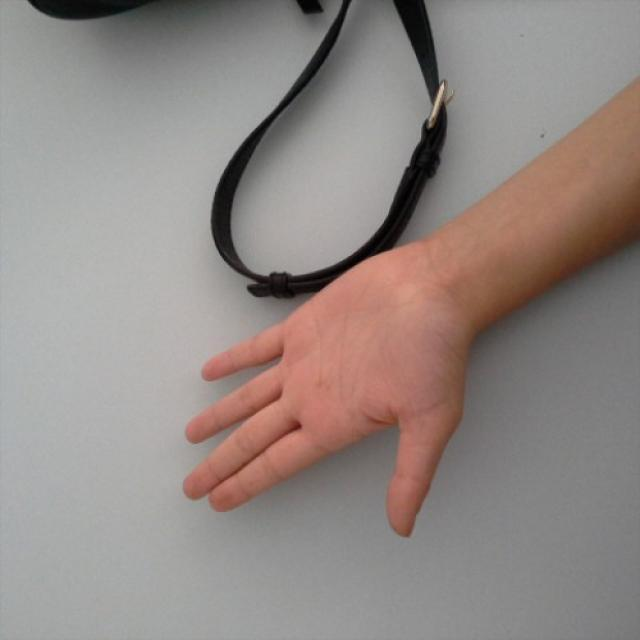paper: (187, 247, 462, 542)
